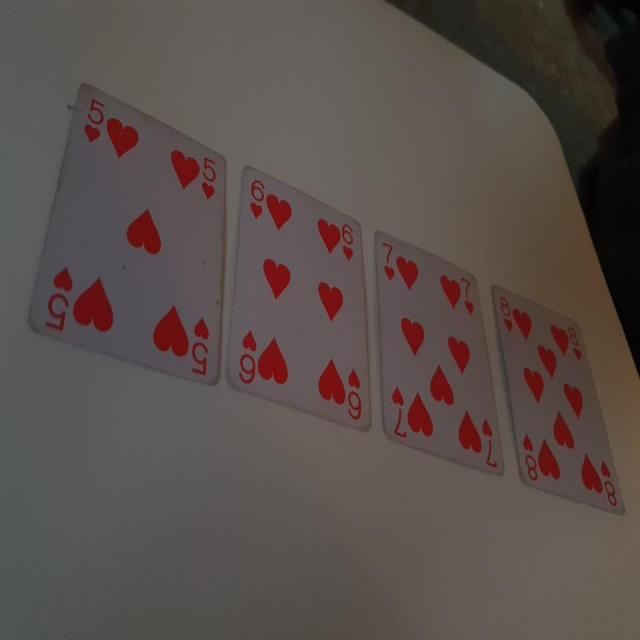5 Hearts: (21, 69, 240, 388)
6 Hearts: (223, 154, 374, 442)
7 Hearts: (374, 222, 507, 486)
8 Hearts: (488, 274, 627, 532)
